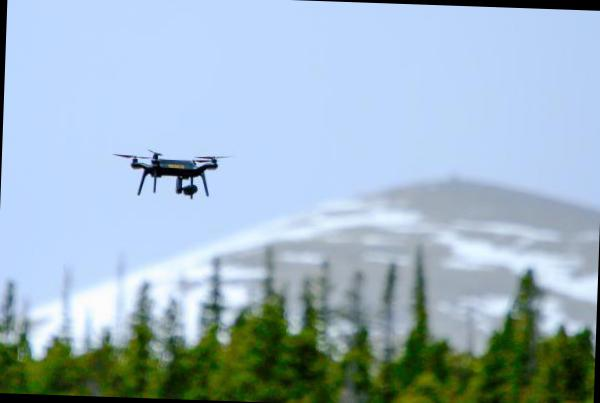drone: (111, 146, 231, 199)
